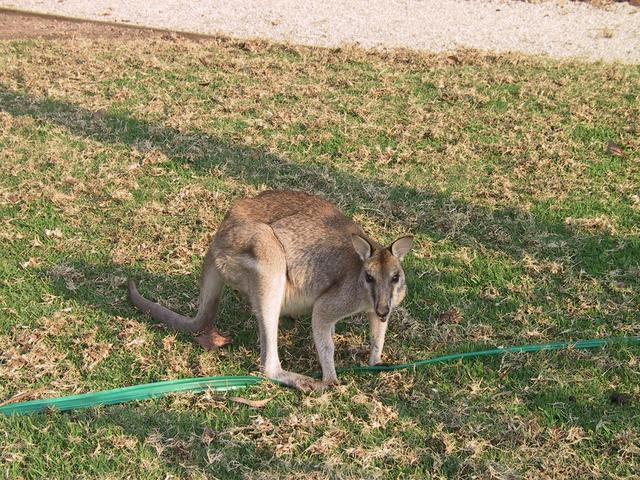kangaroo: (103, 167, 478, 399)
